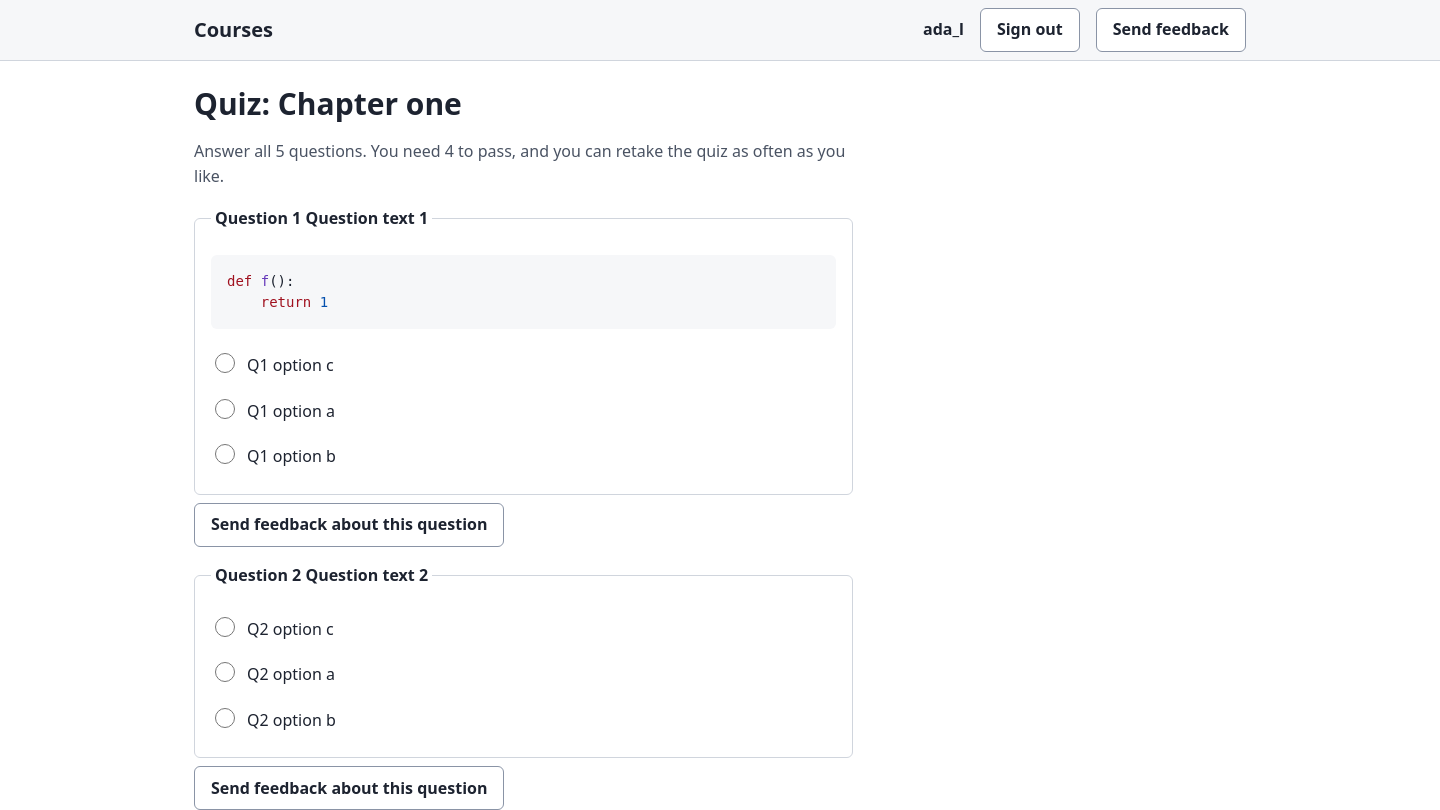
taking the quiz › uses the number of questions in the response as the total
What coordinates should you click on to do the following:
click the radio button labelled "Q1 option a"
I would click on:
 (225, 409)
Its box is [215,399,235,419].
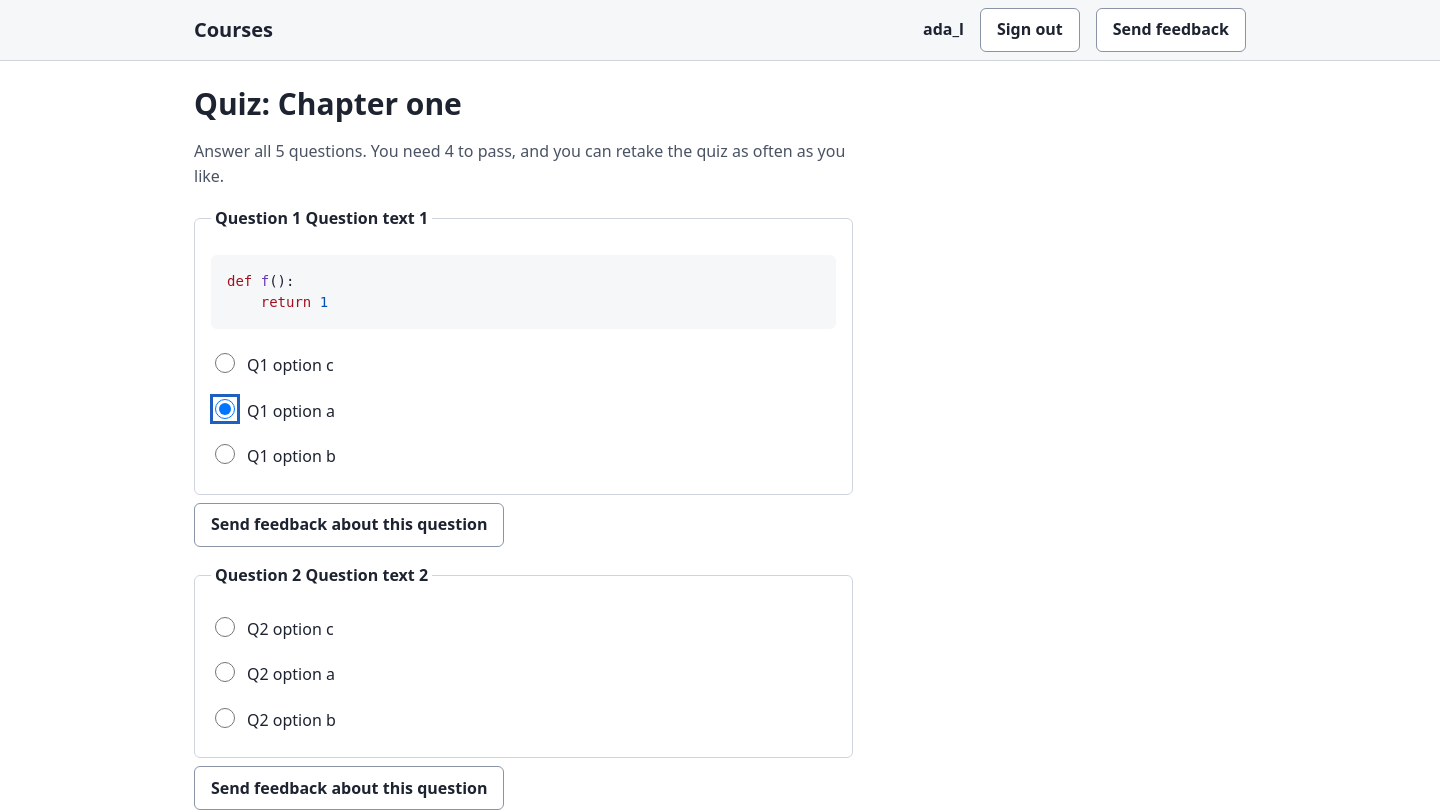
What coordinates should you click on to do the following:
click the radio button labelled "Q2 option a"
I would click on:
 (225, 672)
Its box is [215,662,235,682].
(page scrolled)
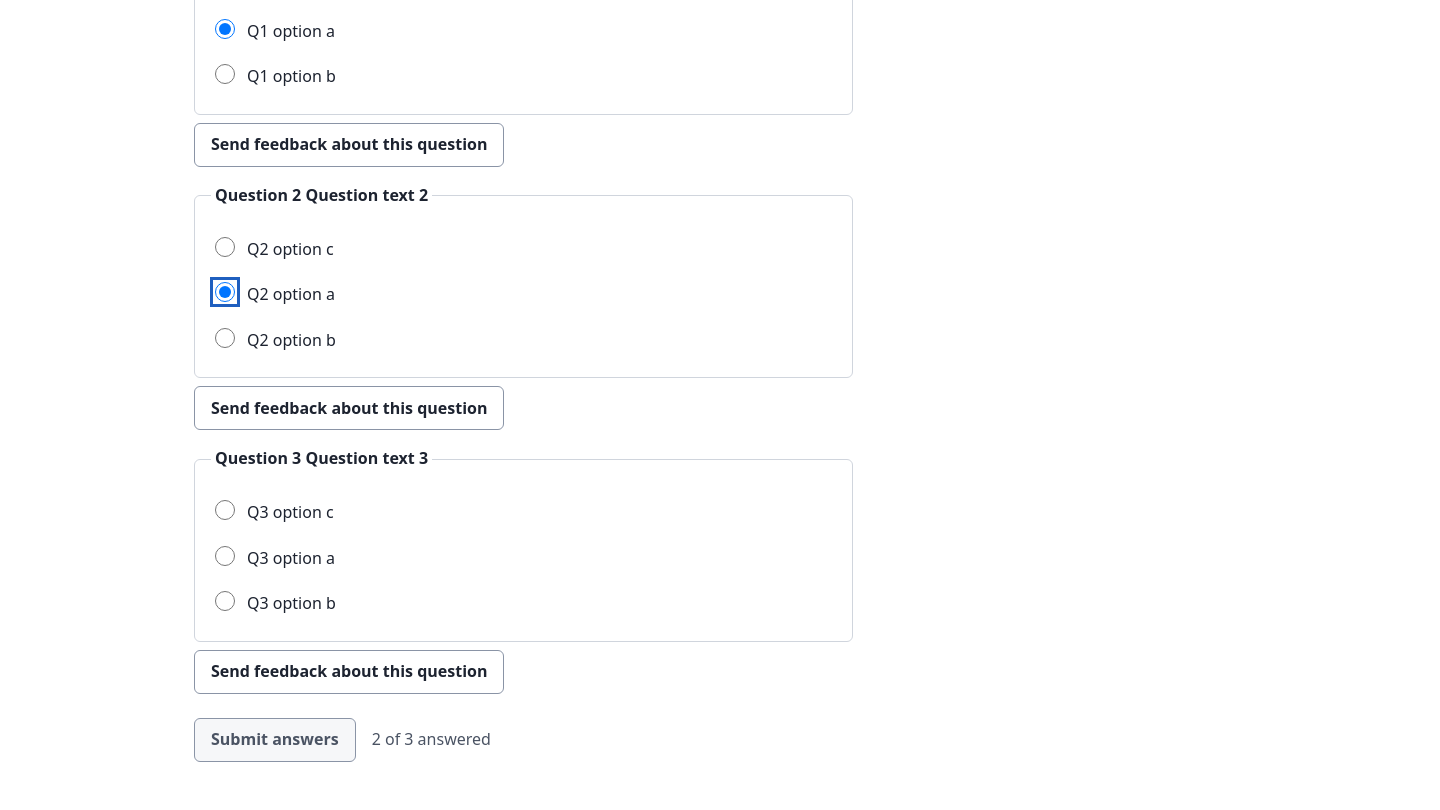
What coordinates should you click on to do the following:
click the radio button labelled "Q3 option a"
I would click on:
 (225, 556)
Its box is [215,546,235,566].
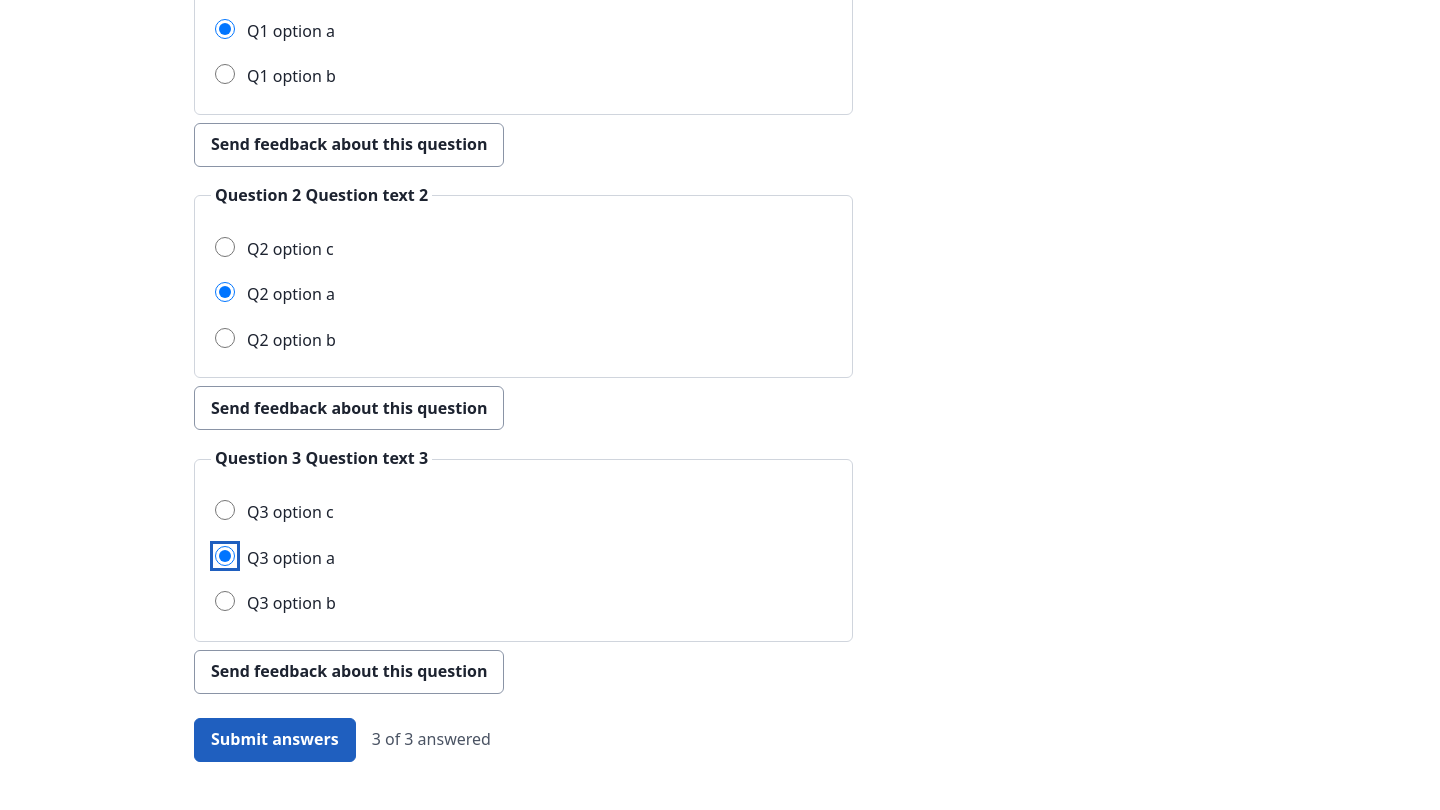
Now the button "Submit answers" is enabled, box [194,718,356,762]
